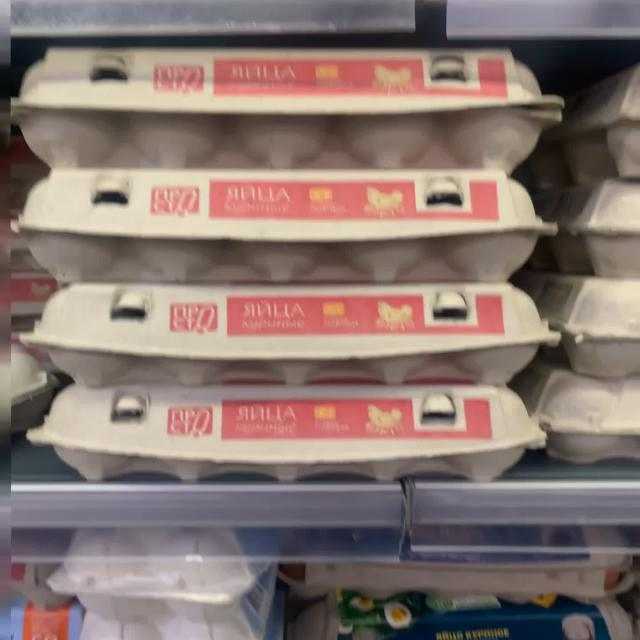egg box: (11, 43, 558, 173), (14, 172, 546, 286), (21, 279, 551, 384), (27, 382, 545, 478)
